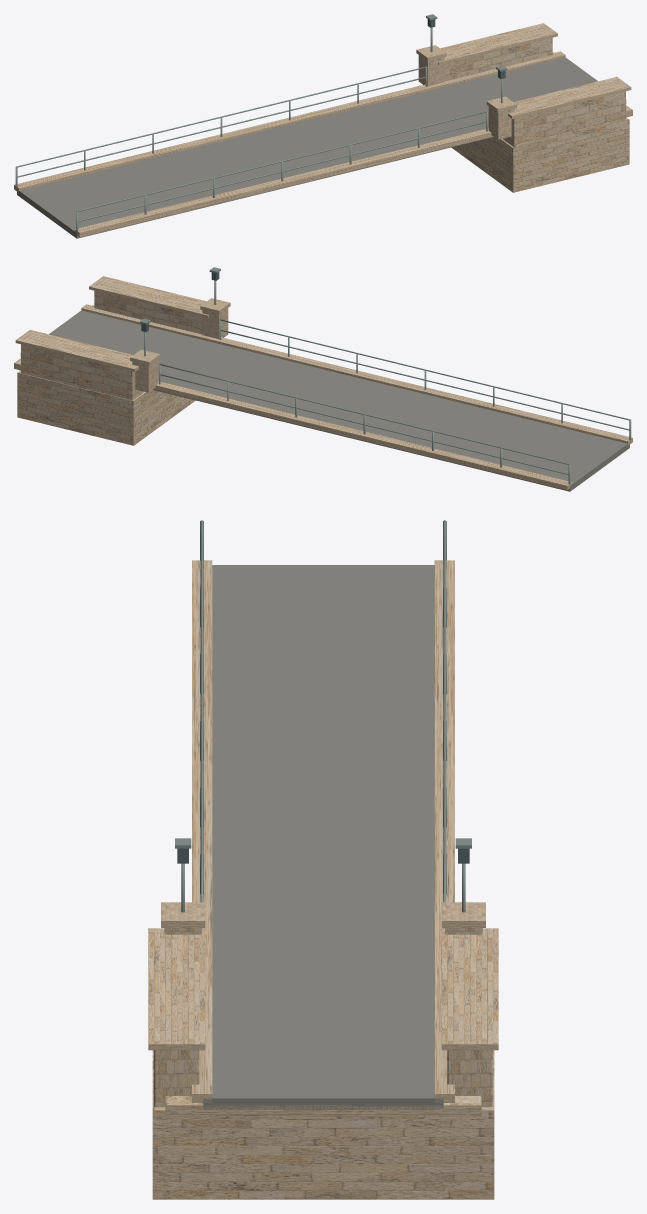
The model's file is little_belt_end.gltf.
3 renders of one model, top to bottom at view 1: azimuth 30°, elevation 25°; view 2: azimuth 150°, elevation 25°; view 3: azimuth 270°, elevation 25°, orthographic. The views are drawn at different scales.
Visible parts, largest first — view 1: little_belt_end; view 2: little_belt_end; view 3: little_belt_end.
Part boxes in pixels (x1,y1,x2,y2): little_belt_end: [14, 14, 632, 238]; little_belt_end: [14, 267, 632, 491]; little_belt_end: [148, 520, 498, 1199].
Bounding box in the file's own units: 1 × 0.21 × 0.277.
4 materials, 1 textured.
